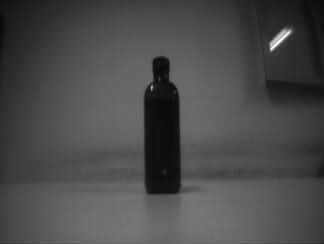Bottle: (143, 56, 182, 195)
